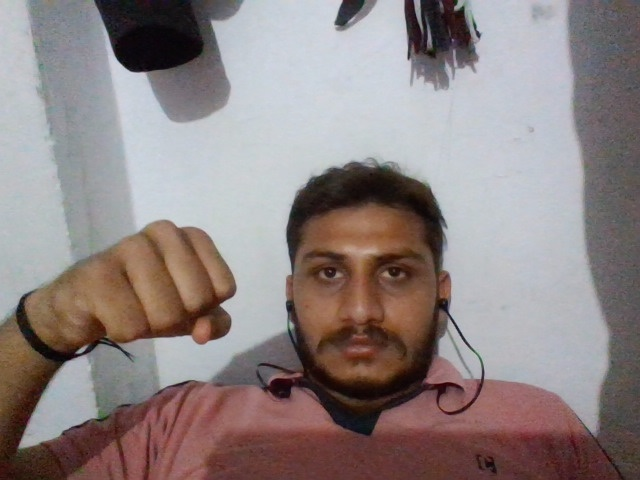Yes: (23, 209, 254, 352)
